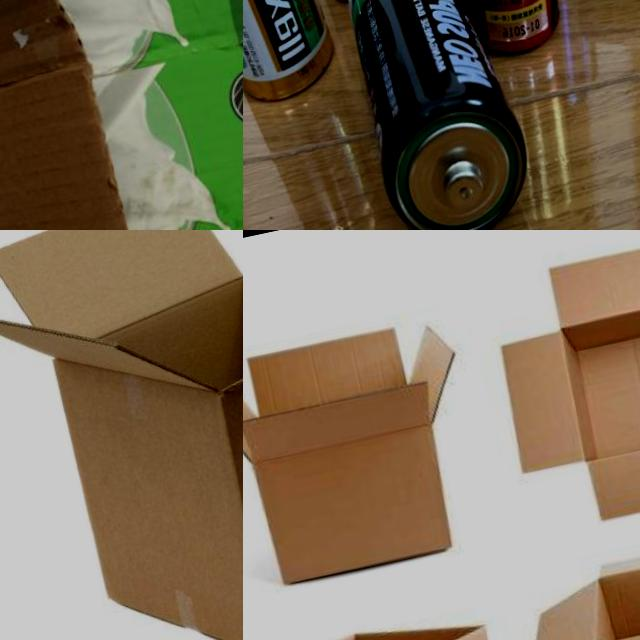bateria: (328, 0, 541, 230), (400, 0, 592, 69)
garrafa plástica: (0, 230, 243, 640), (243, 313, 498, 596), (478, 230, 640, 535)
papelão: (0, 0, 243, 230)
